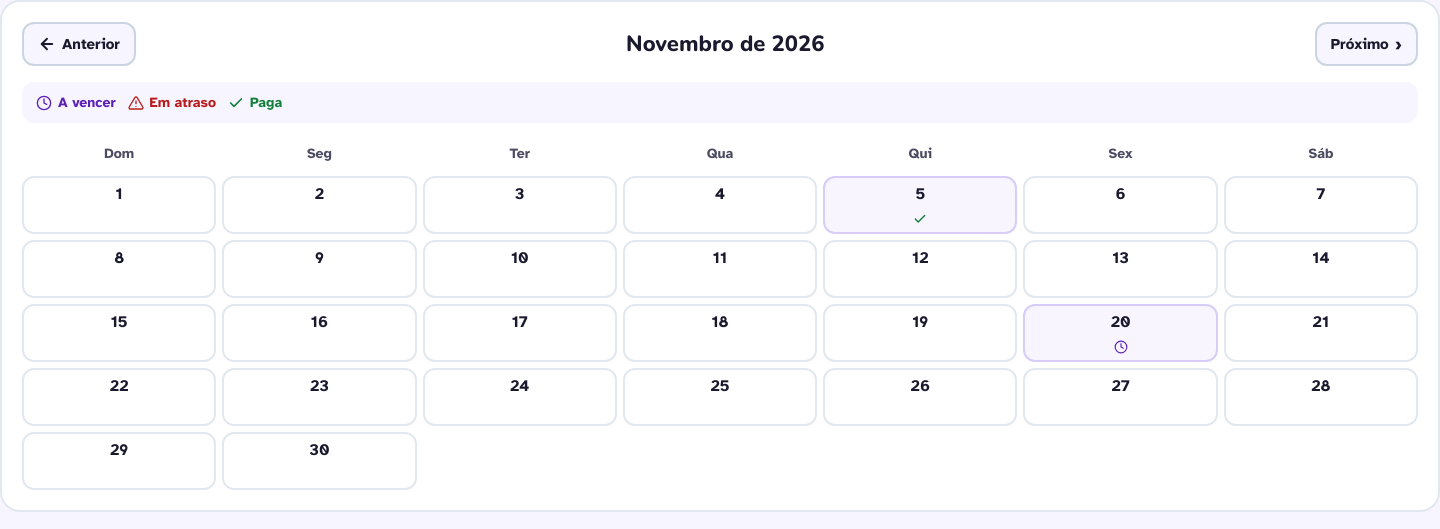
Test: CalendarioVencimentos (RF34) › permite navegar para o próximo mês e mês anterior
Click the button with aria-label "próximo mês".
click(1366, 44)  # box [1315,22,1418,66]
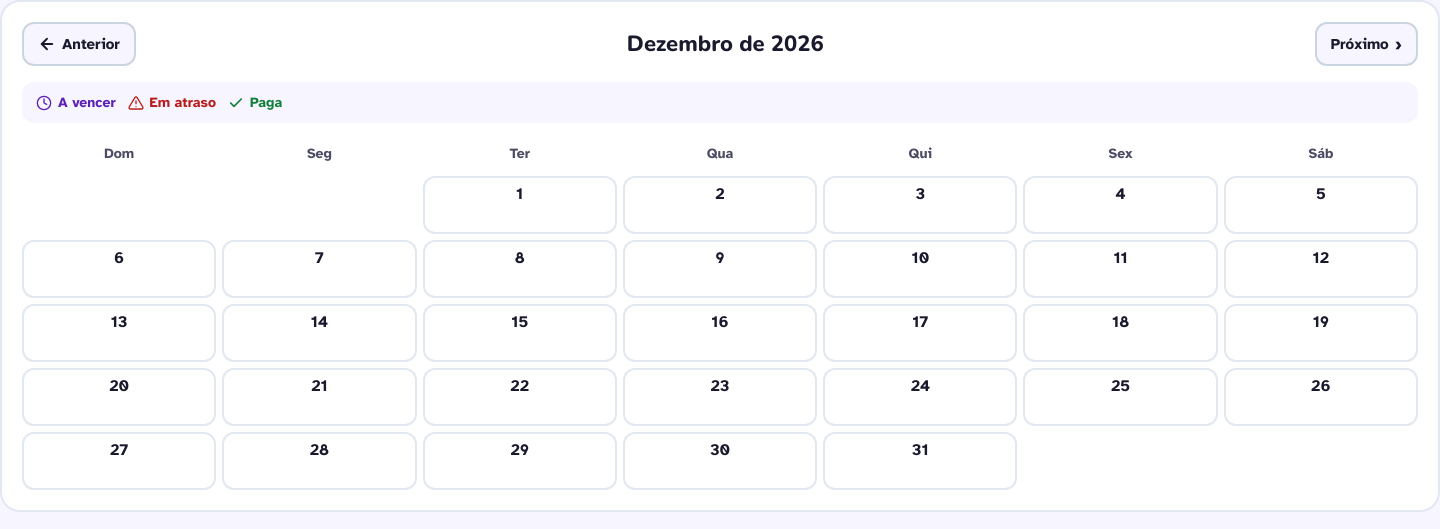
Expected: the heading "Dezembro de 2026" is shown, [627,28,824,60]
Click the button with aria-label "mês anterior".
click(79, 44)  # box [22,22,136,66]
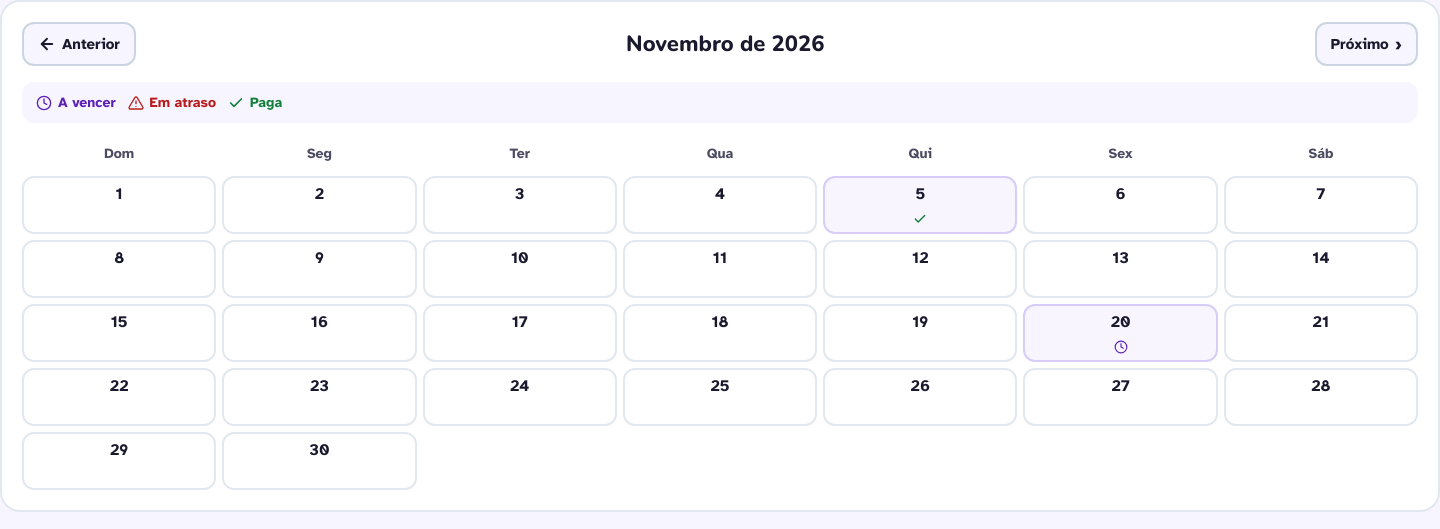
Expected: the heading "Novembro de 2026" is shown, [626,28,824,60]
